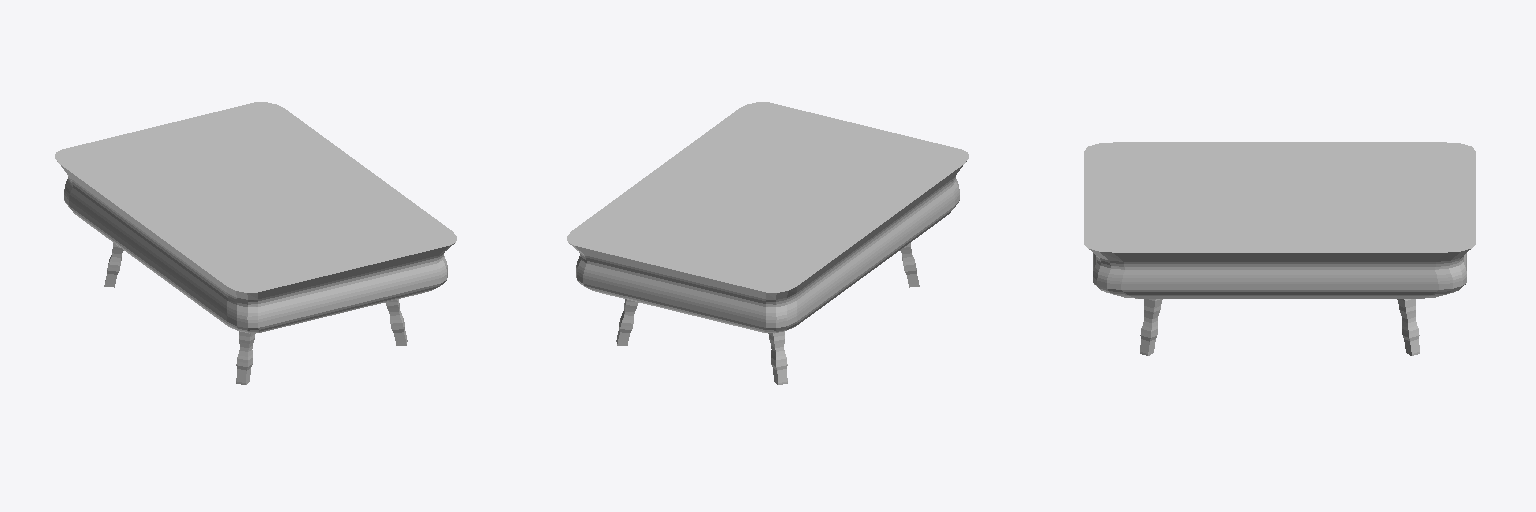
File: Biljart_table.obj
3 renders of one model, left to right at view 1: azimuth 30°, elevation 25°; view 2: azimuth 150°, elevation 25°; view 3: azimuth 270°, elevation 25°, orthographic.
Parts seen in each view (by area): view 1: Tafel_Cube.001, Poten_Cube.004; view 2: Tafel_Cube.001, Poten_Cube.004; view 3: Tafel_Cube.001, Poten_Cube.004.
Boxes of the visible parts, box(x1,y1,x2,y2) form: Tafel_Cube.001: box(55, 102, 456, 333); Poten_Cube.004: box(104, 243, 407, 384); Tafel_Cube.001: box(567, 102, 968, 333); Poten_Cube.004: box(616, 243, 919, 384); Tafel_Cube.001: box(1084, 142, 1475, 298); Poten_Cube.004: box(1140, 299, 1419, 355).
Bounding box in the file's own units: 4 × 1.98 × 6.